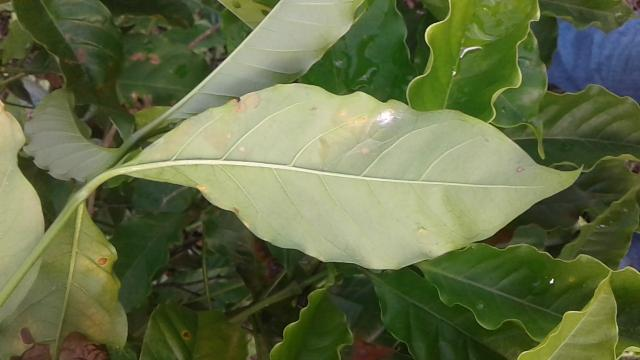rust_level_1: (124, 86, 584, 268)
